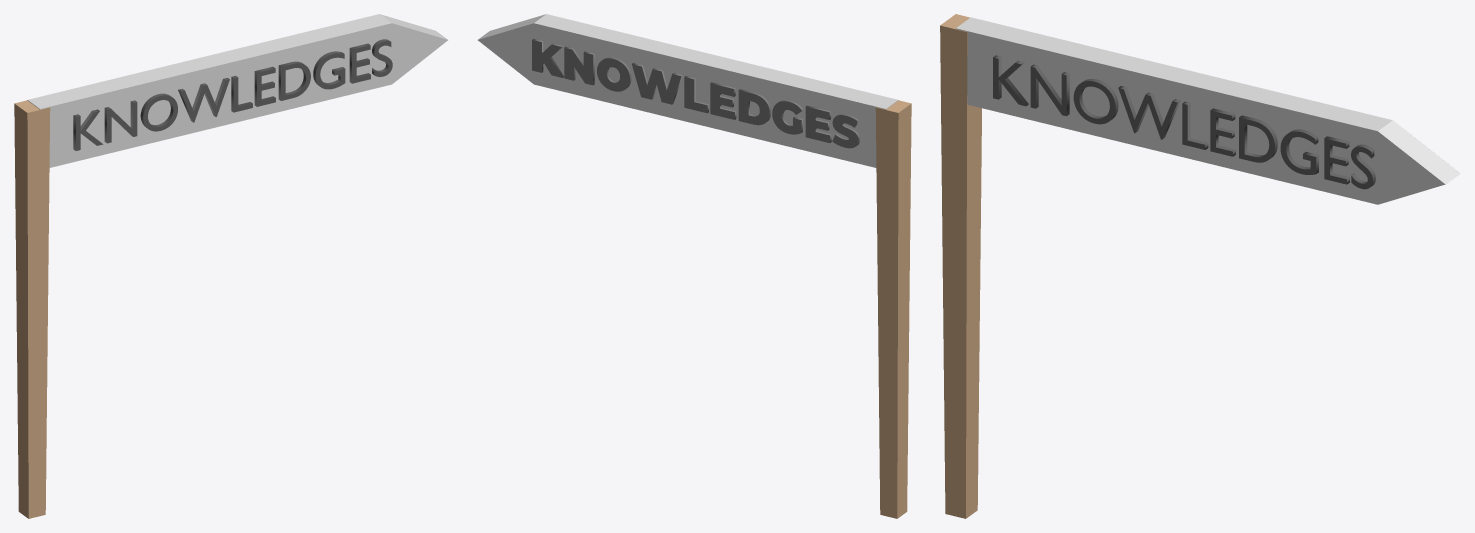
The model's file is navigation_board_knowledge_old.fbx.
3 views of the same model, side by side, from view 1: azimuth 30°, elevation 25°; view 2: azimuth 150°, elevation 25°; view 3: azimuth 330°, elevation 25° (orthographic). The views are drawn at different scales.
Visible parts, largest first — view 1: Cube.001, Cube, Text; view 2: Cube.001, Cube, Text.001; view 3: Cube.001, Cube, Text.
Part boxes in pixels (box(x1,y1,x2,y2)): Cube.001: box(27, 14, 447, 167); Cube: box(14, 100, 50, 518); Text: box(73, 39, 392, 150); Cube.001: box(478, 14, 898, 167); Cube: box(875, 100, 911, 518); Text.001: box(532, 39, 859, 148); Cube.001: box(956, 17, 1460, 204); Cube: box(940, 14, 981, 518); Text: box(993, 55, 1375, 189).
Bounding box in the file's own units: 193 × 179 × 12.95.
